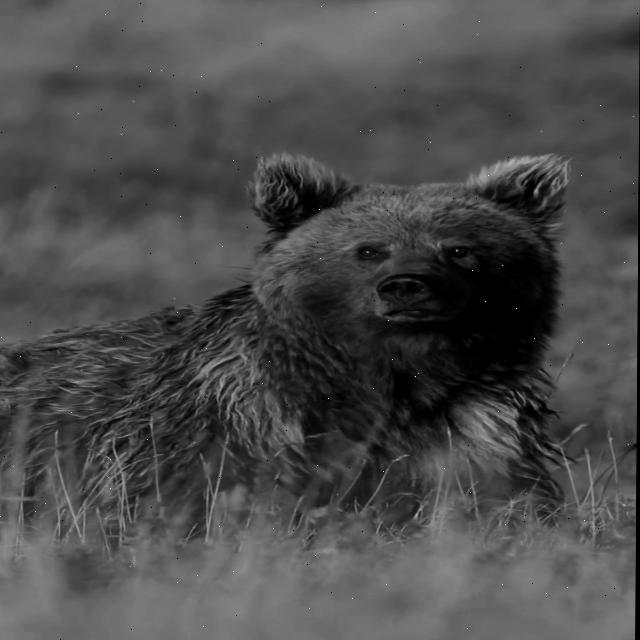Bear: (0, 150, 580, 563)
